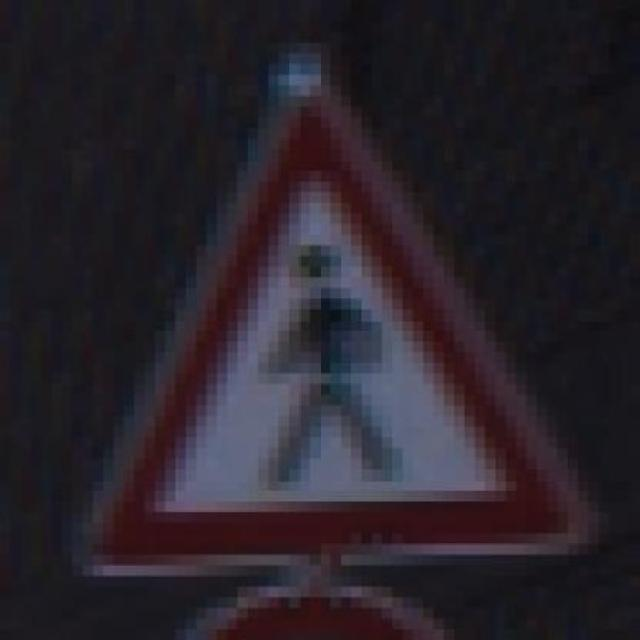Pedestrian Crossing: (72, 62, 598, 563)
